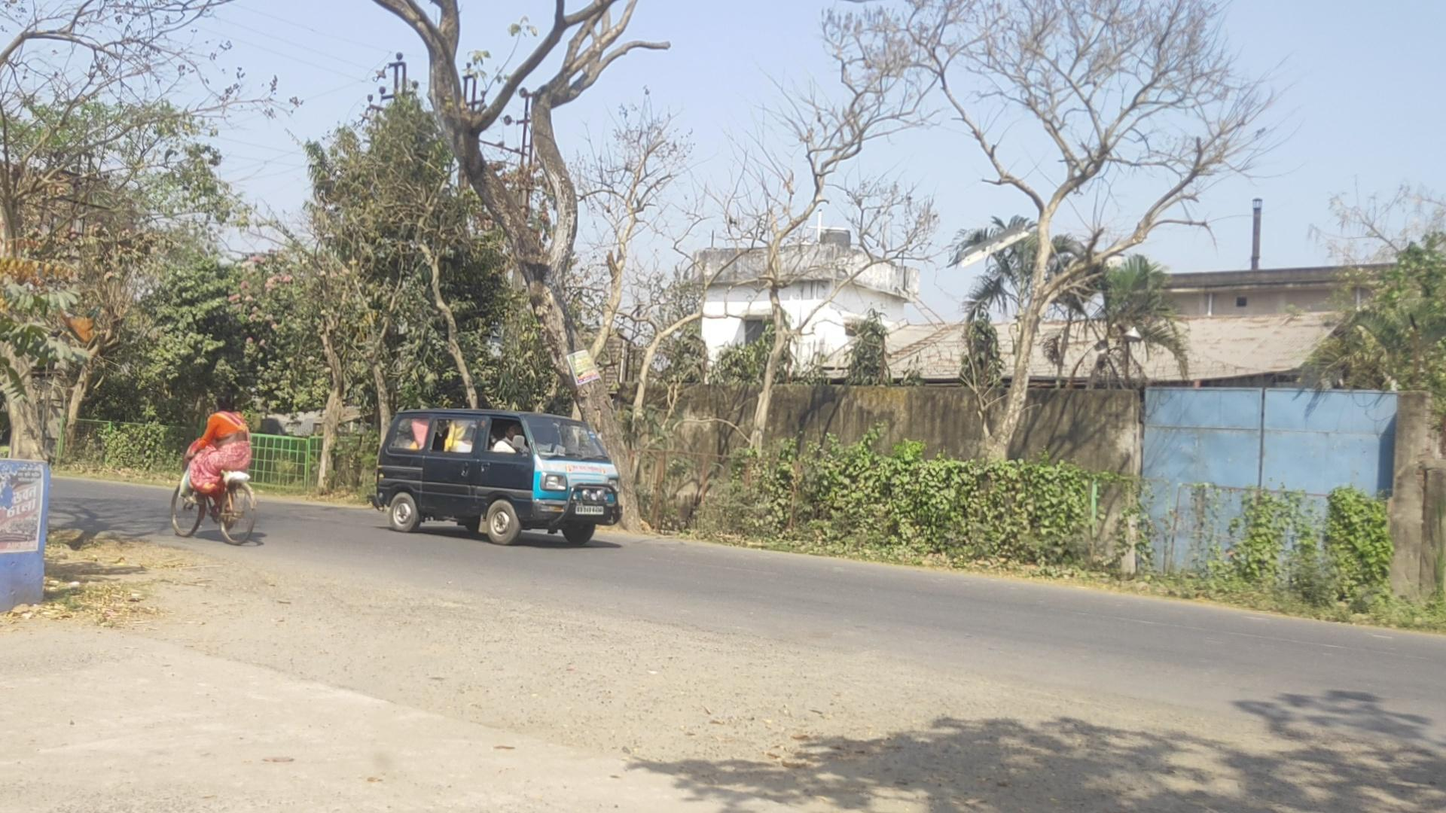bike: (171, 393, 258, 545)
van: (367, 406, 622, 546)
